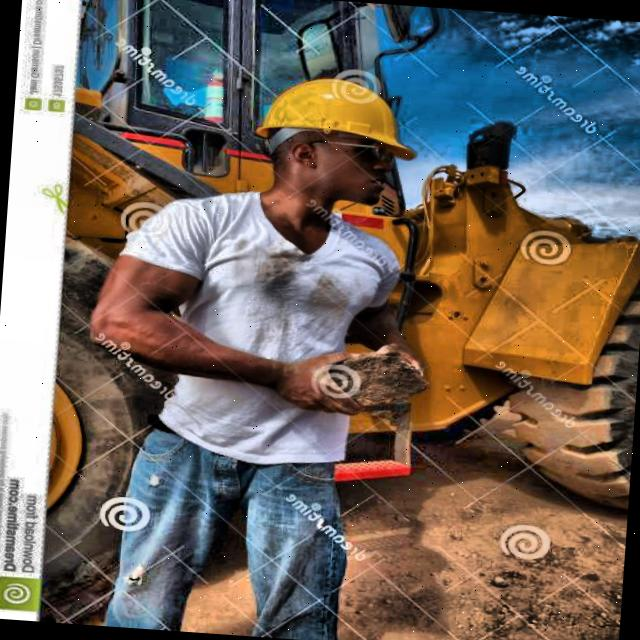helmet: (230, 54, 428, 239)
